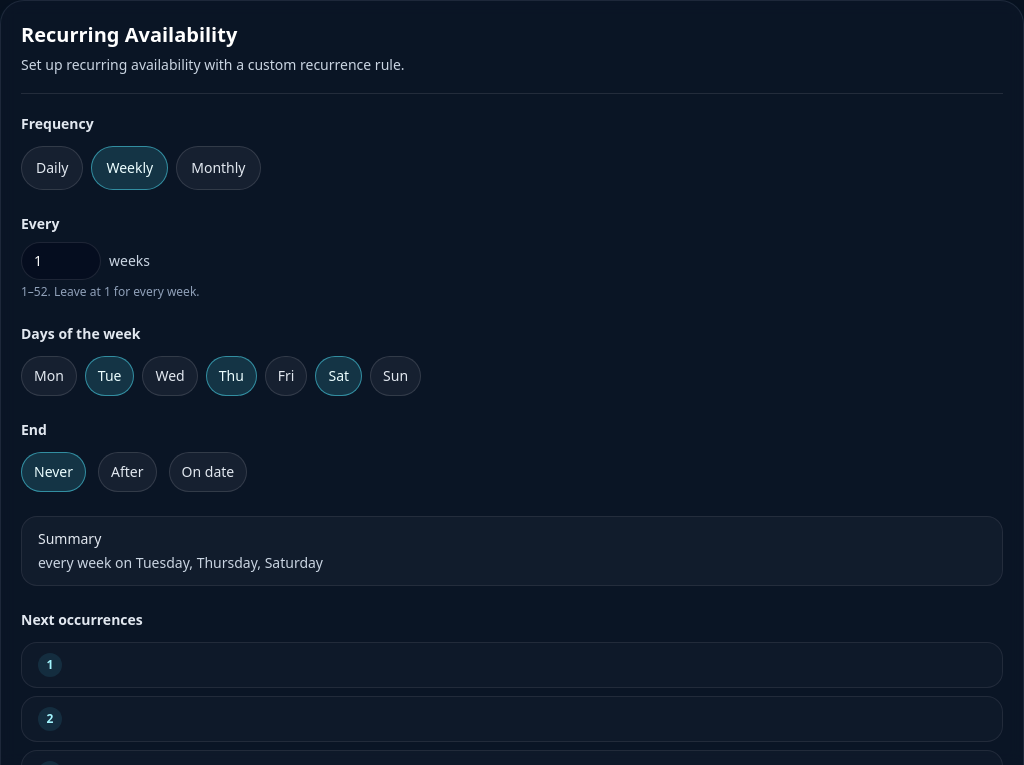
Test: RecurringAvailabilityEditor › failure path: no weekday selected while frequency requires weekdays › shows a validation alert when all weekdays are deselected (weekly)
Click the checkbox labelled "Tue" at (110, 376), box [85,356,134,396]
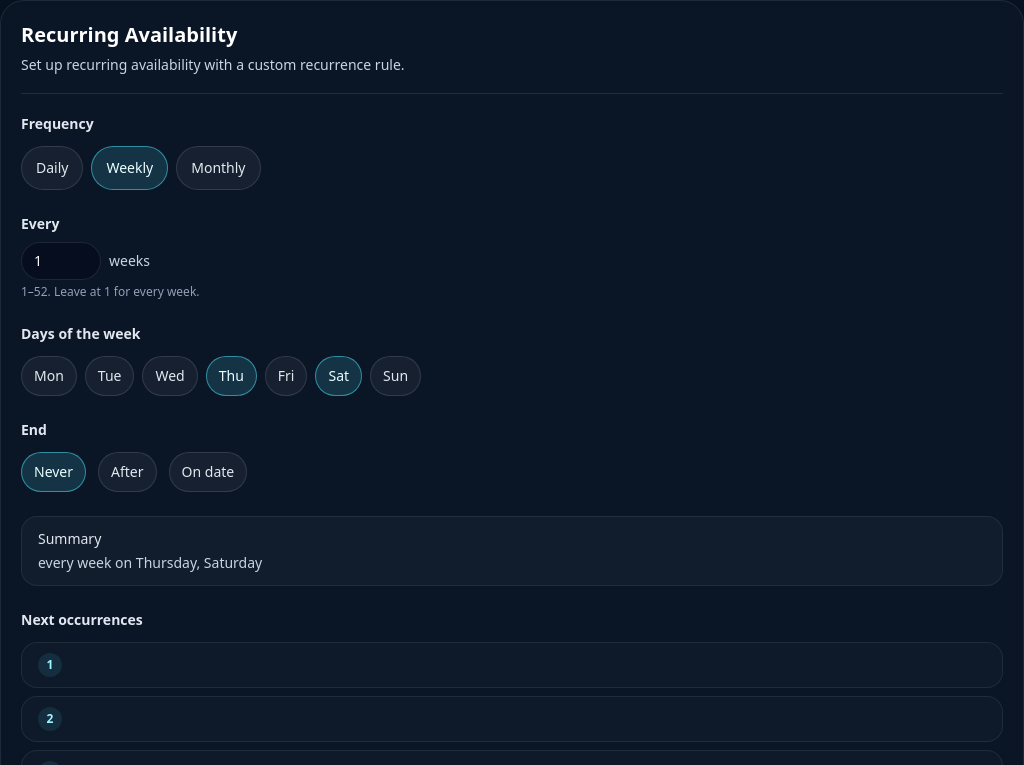
Click the checkbox labelled "Thu" at (231, 376), box [206,356,257,396]
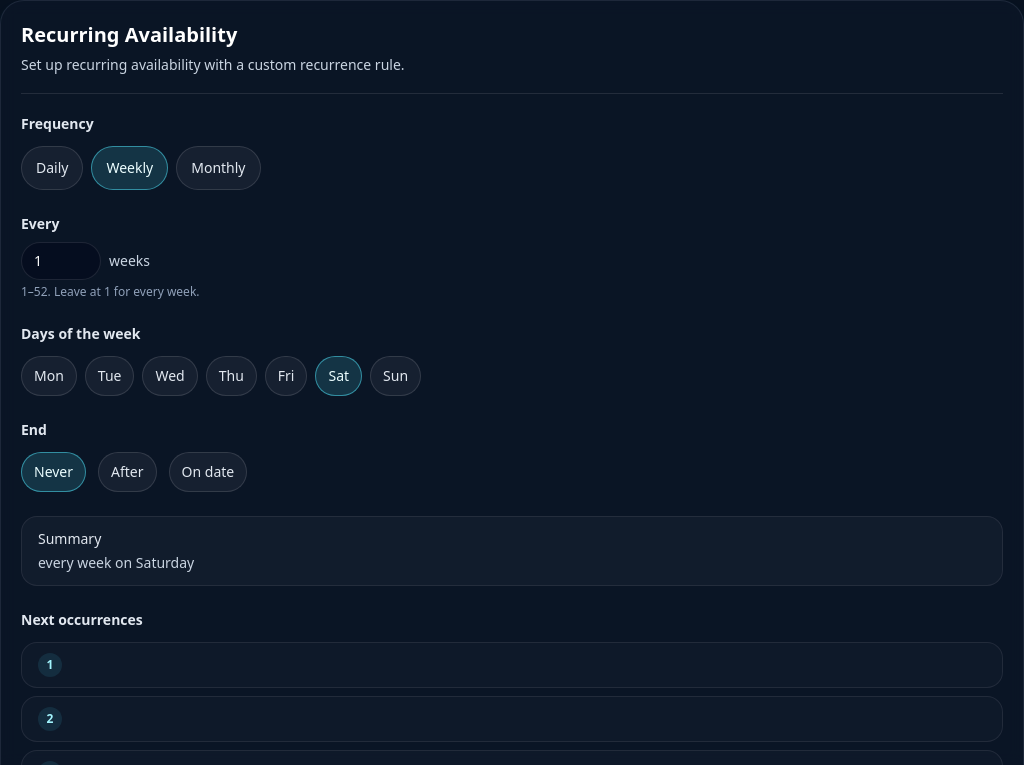
Click the checkbox labelled "Sat" at (339, 376), box [316,356,362,396]
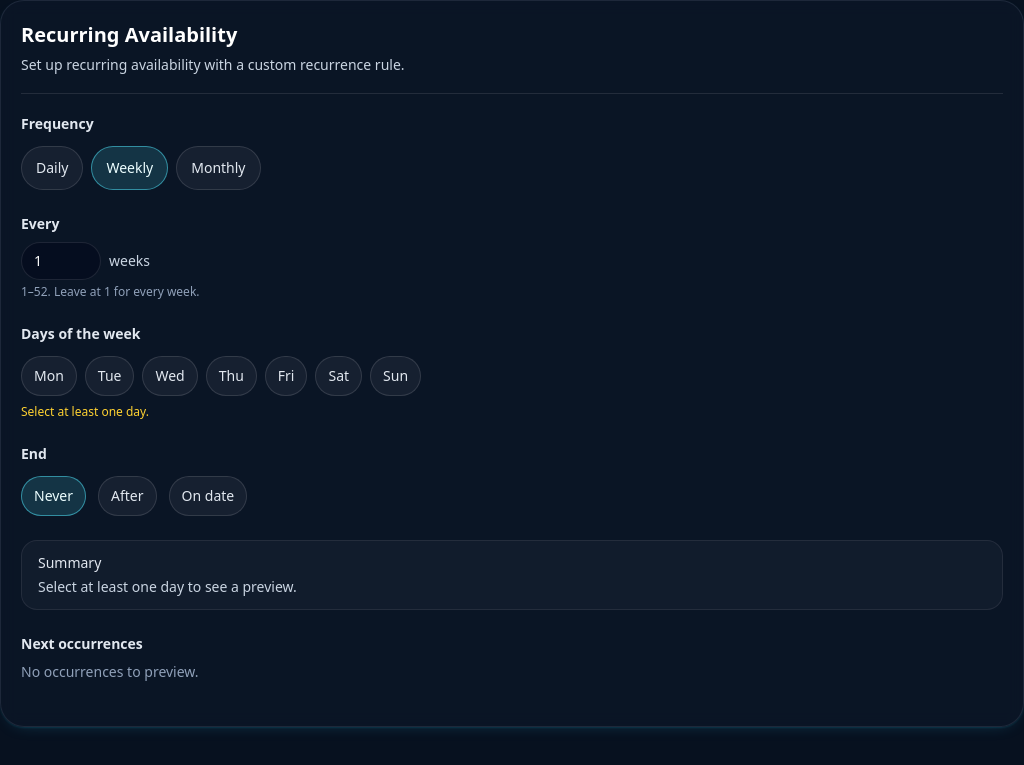
Check: the message shows "Select at least one day", box [21,403,149,420]
